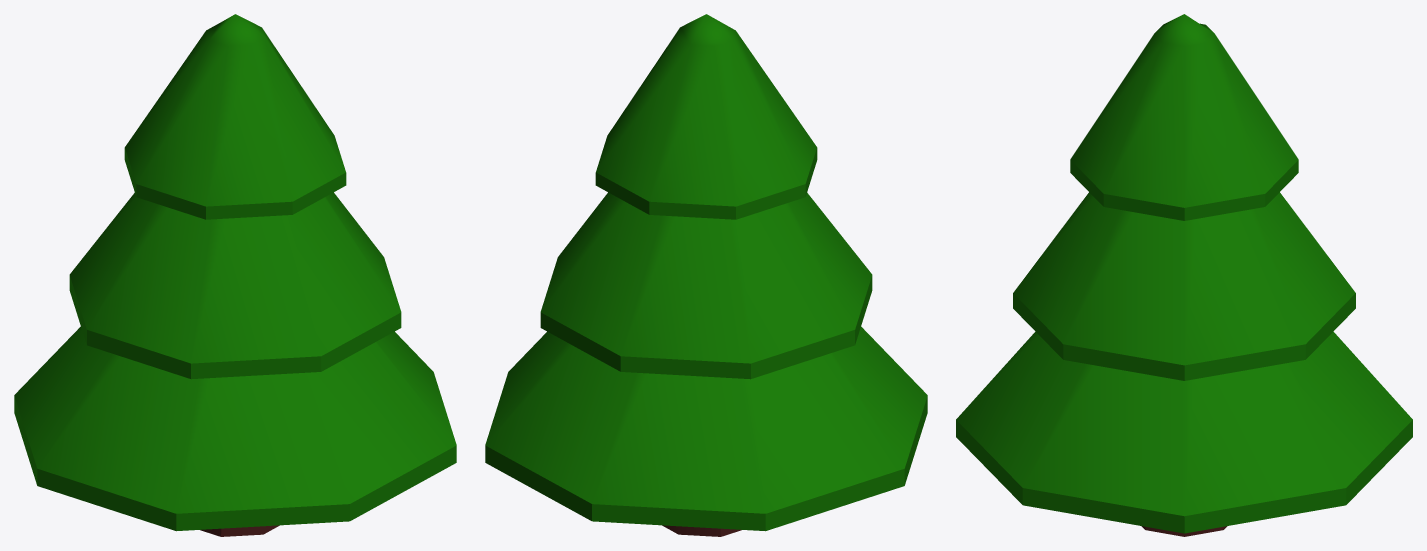
File: Sapin.fbx
3 views of the same model, side by side, from view 1: azimuth 30°, elevation 25°; view 2: azimuth 150°, elevation 25°; view 3: azimuth 270°, elevation 25° (orthographic).
Parts seen in each view (by area): view 1: Mouton3D:Sapin; view 2: Mouton3D:Sapin; view 3: Mouton3D:Sapin.
Boxes of the visible parts, x1,y1,x2,y2 form: Mouton3D:Sapin: (14, 14, 456, 536); Mouton3D:Sapin: (485, 14, 927, 536); Mouton3D:Sapin: (956, 14, 1412, 536).
Bounding box in the file's own units: 7.51 × 9.06 × 7.51.
